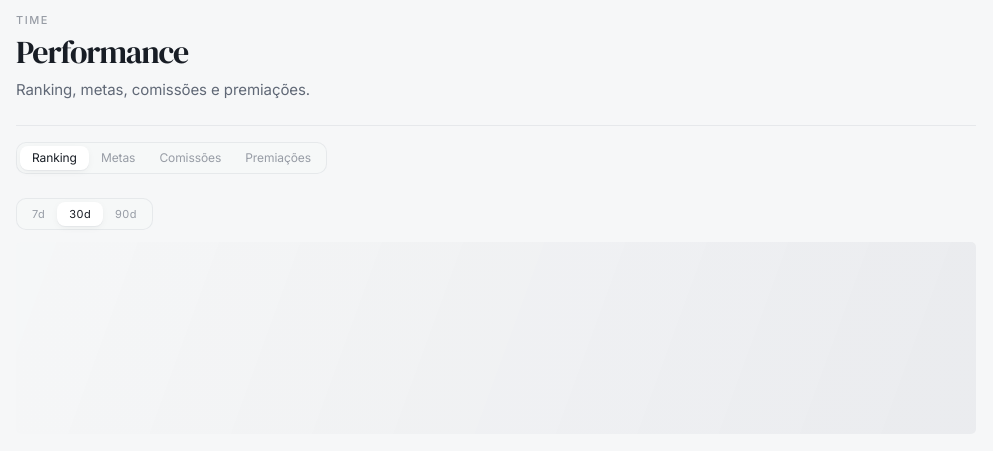
S47 — PerformancePage › switches to commissions tab and shows empty state
Click the button "Comissões" at (190,158), box [147, 146, 233, 170]
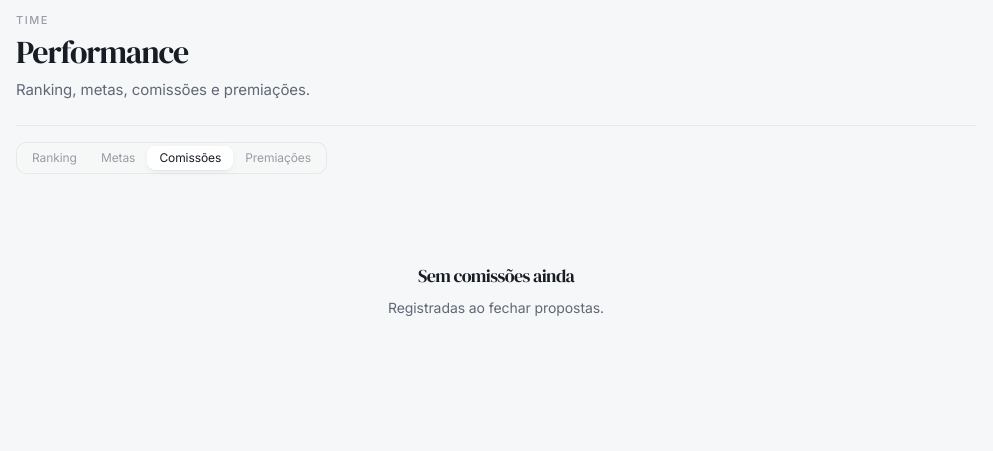
Expected: the heading "Sem comissões ainda" is shown, [418, 262, 574, 290]
